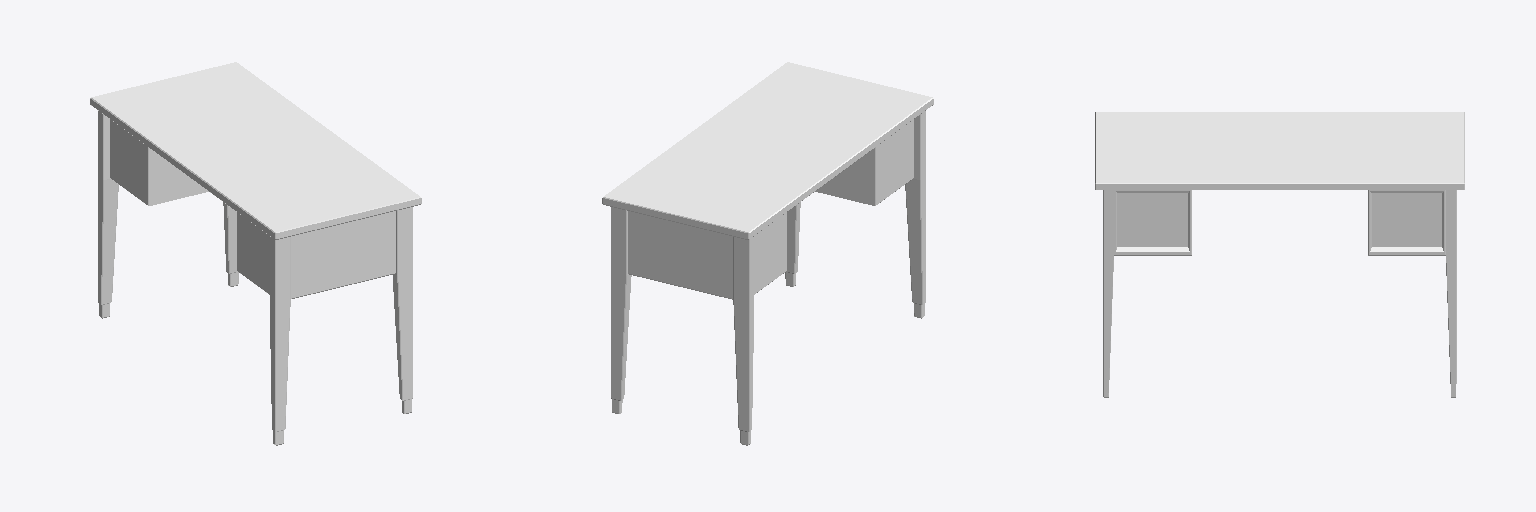
3 views of the same model, side by side, from view 1: azimuth 30°, elevation 25°; view 2: azimuth 150°, elevation 25°; view 3: azimuth 270°, elevation 25° (orthographic).
Parts seen in each view (by area): view 1: aws_ReadingDesk_01_visualMesh; view 2: aws_ReadingDesk_01_visualMesh; view 3: aws_ReadingDesk_01_visualMesh.
Boxes of the visible parts, <box> form: aws_ReadingDesk_01_visualMesh: <box>90,62,421,445</box>; aws_ReadingDesk_01_visualMesh: <box>602,62,933,445</box>; aws_ReadingDesk_01_visualMesh: <box>1095,112,1464,397</box>.
Bounding box in the file's own units: 0.5245 × 0.7433 × 1.14.